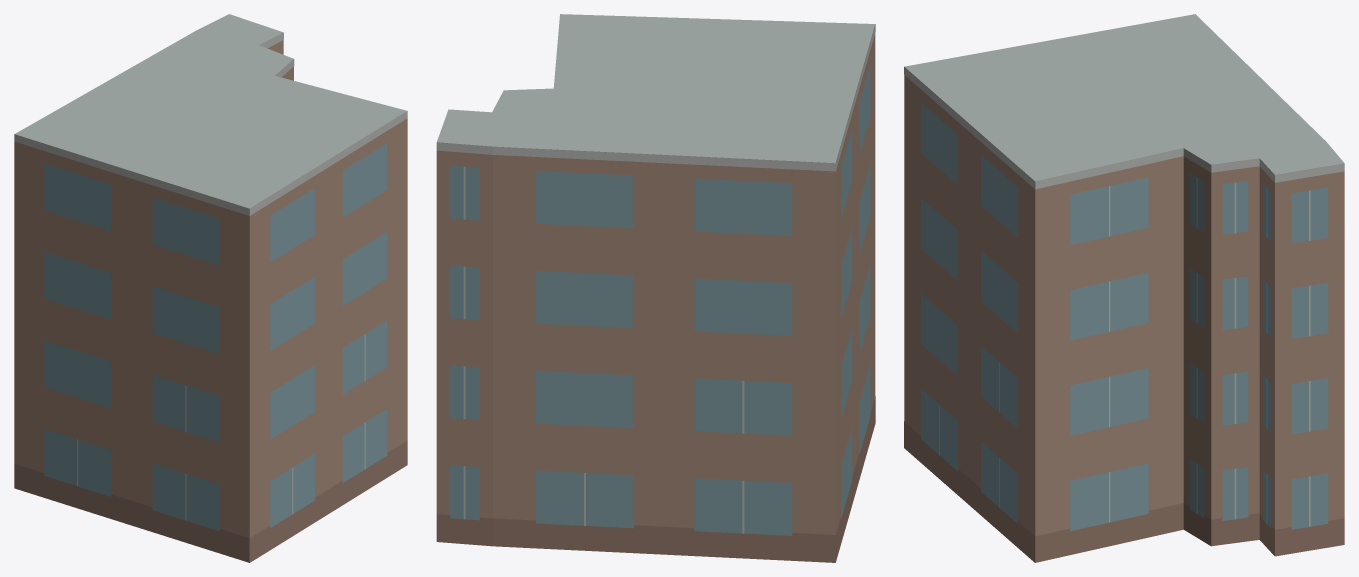
The model's file is survey-upis-32703443.glb.
3 renders of one model, left to right at view 1: azimuth 30°, elevation 25°; view 2: azimuth 150°, elevation 25°; view 3: azimuth 270°, elevation 25°, orthographic. The views are drawn at different scales.
Visible parts, largest first — view 1: survey-upis-32703443.tmp; view 2: survey-upis-32703443.tmp; view 3: survey-upis-32703443.tmp.
Boxes of the visible parts, <box> form: survey-upis-32703443.tmp: <box>14,14,407,562</box>; survey-upis-32703443.tmp: <box>436,14,875,562</box>; survey-upis-32703443.tmp: <box>904,14,1344,562</box>.
Size of the model in its own units: 11.03 by 11.7 by 12.26.
